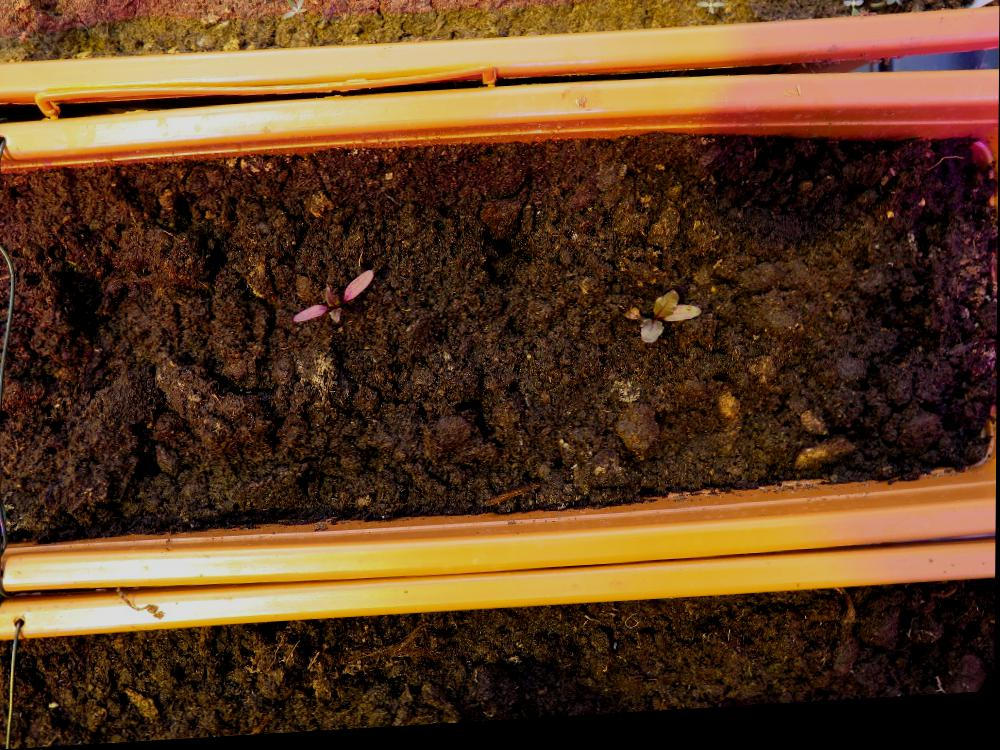weed: (694, 0, 725, 24), (279, 0, 307, 24), (904, 0, 939, 4)
